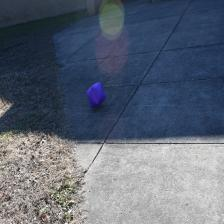cube: (87, 82, 107, 109)
